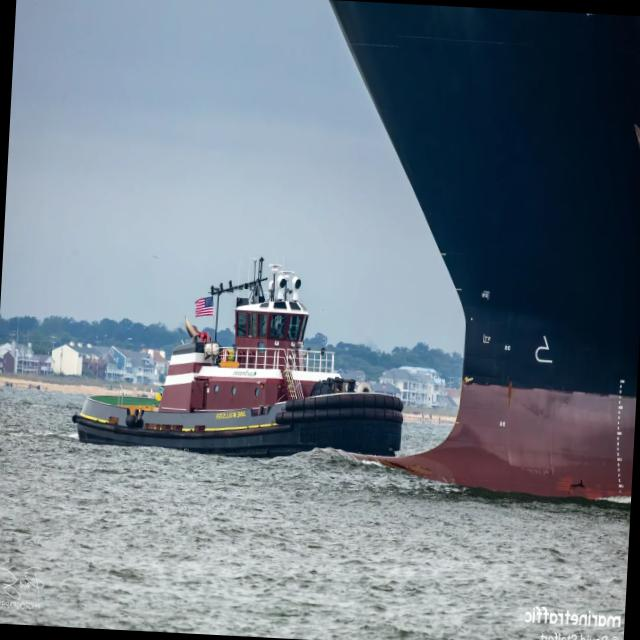Tug: (72, 265, 403, 457)
